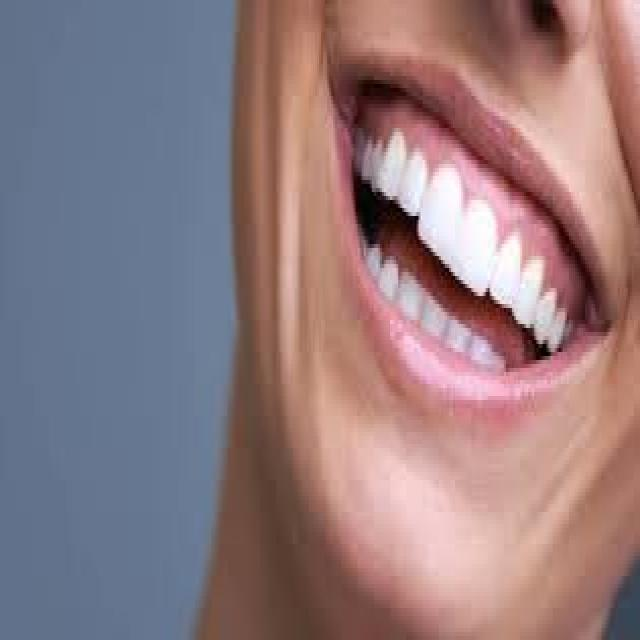tooth: (451, 204, 488, 276), (435, 164, 455, 252), (400, 156, 425, 208), (421, 292, 447, 336), (546, 308, 569, 352), (376, 248, 394, 296), (516, 276, 541, 304), (400, 276, 414, 316), (451, 316, 465, 356), (368, 140, 380, 180), (544, 288, 556, 328), (390, 128, 396, 200), (469, 336, 490, 356), (510, 224, 514, 304), (363, 144, 368, 176)
